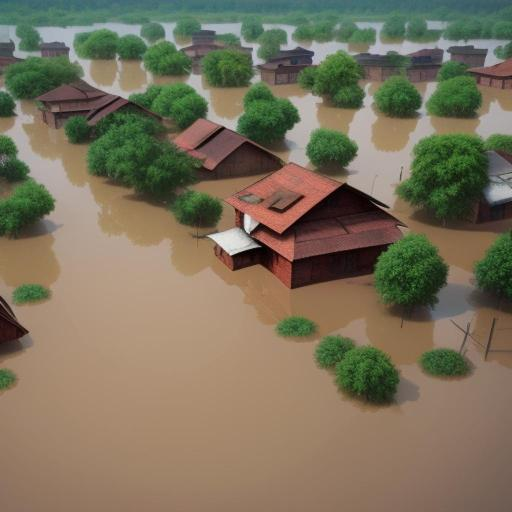flood: (0, 80, 512, 512), (37, 22, 248, 129), (264, 24, 507, 64), (192, 174, 264, 230), (0, 25, 39, 57), (163, 22, 186, 47), (202, 22, 241, 35), (243, 40, 262, 64), (356, 21, 385, 31), (428, 20, 452, 29)
house: (218, 172, 408, 297), (171, 116, 285, 177), (36, 80, 110, 130), (85, 97, 161, 121), (355, 51, 408, 83), (468, 56, 512, 90), (488, 152, 512, 208), (257, 59, 301, 87), (446, 44, 490, 70), (38, 40, 72, 60)
